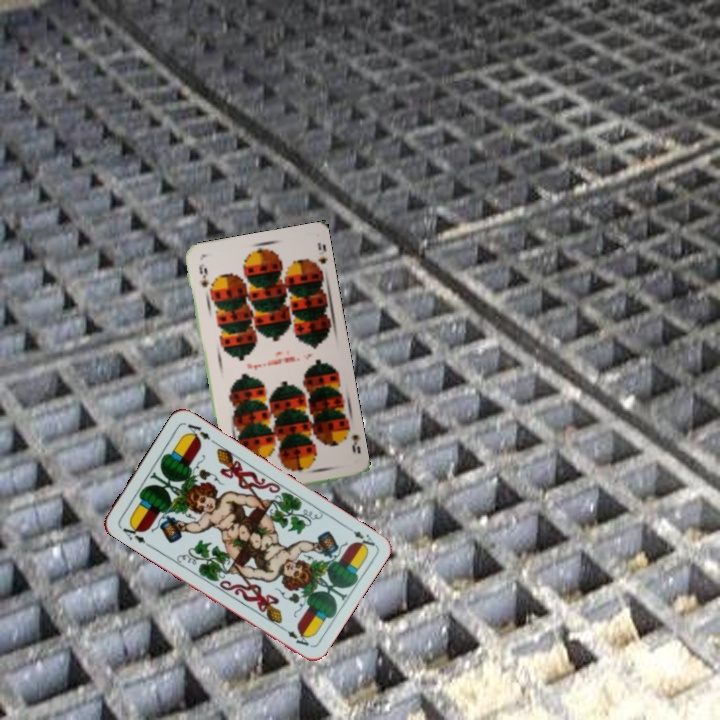EA: (341, 521, 378, 552), (118, 519, 152, 549)
S9: (340, 422, 363, 456), (195, 259, 211, 290)
